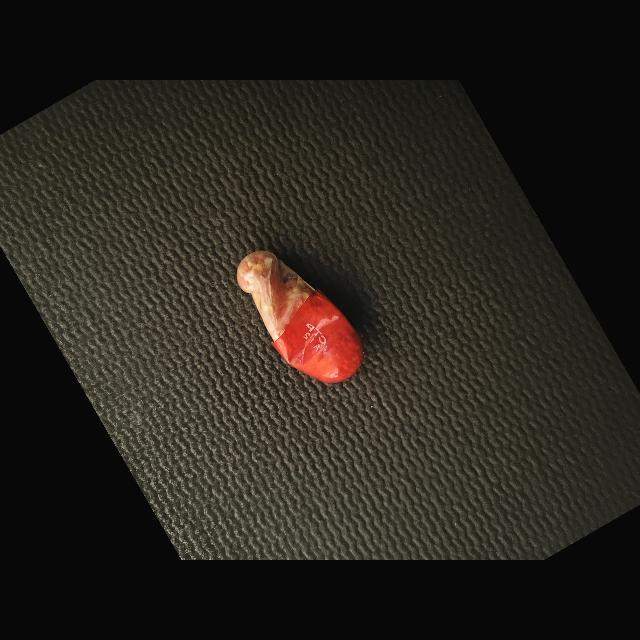Defective Capsule: (237, 251, 364, 383)
